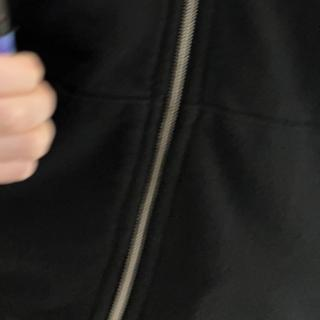fire: (0, 0, 4, 5)
